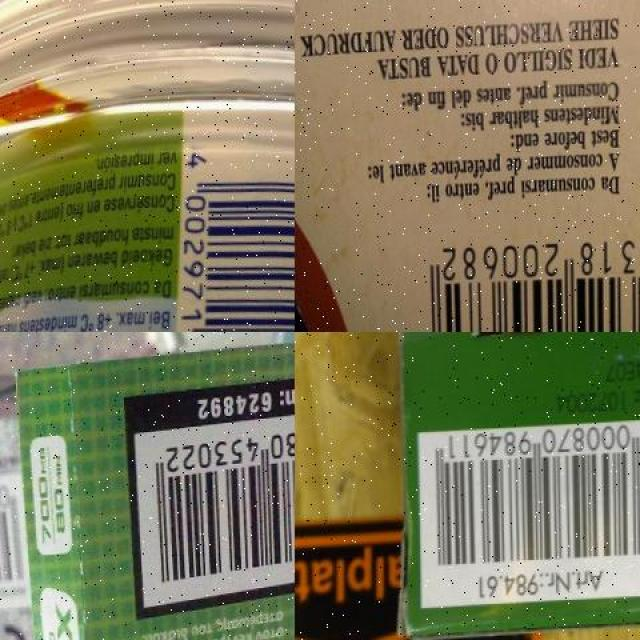Barcode: (420, 420, 640, 600), (133, 404, 295, 605), (405, 207, 640, 332), (168, 121, 295, 332)
